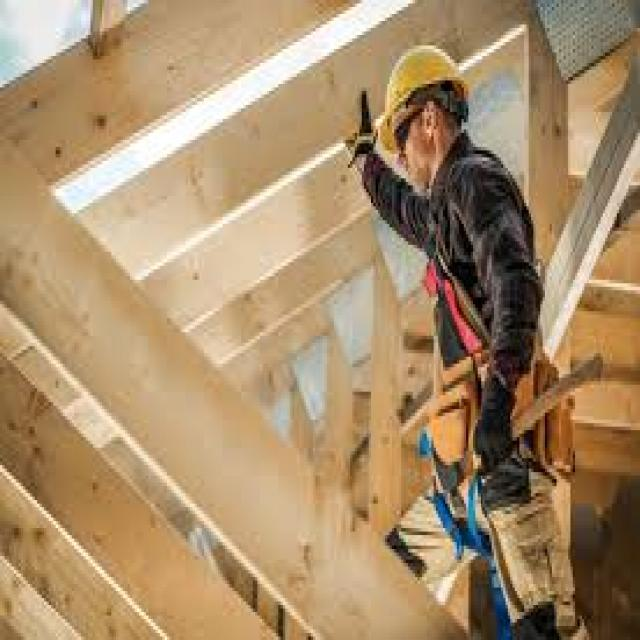Safety-Helmet: (368, 35, 478, 133)
